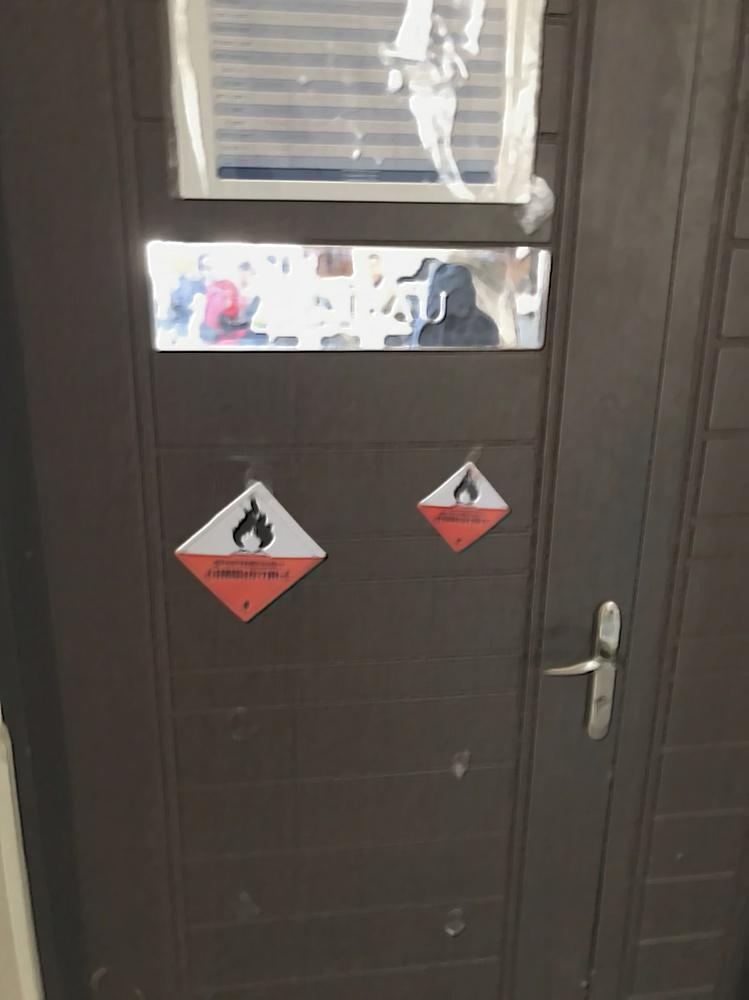spontaneously-combustible: (173, 479, 328, 625), (417, 455, 515, 551)
